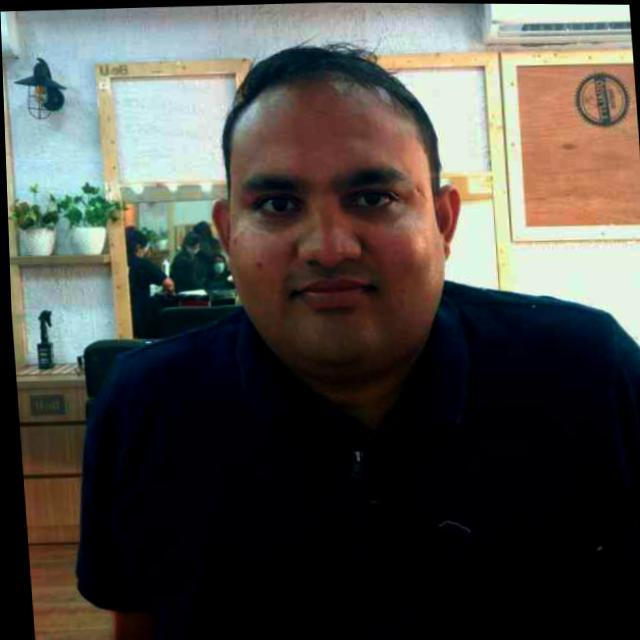puffy_eyes: (338, 192, 401, 220), (250, 210, 307, 230)
